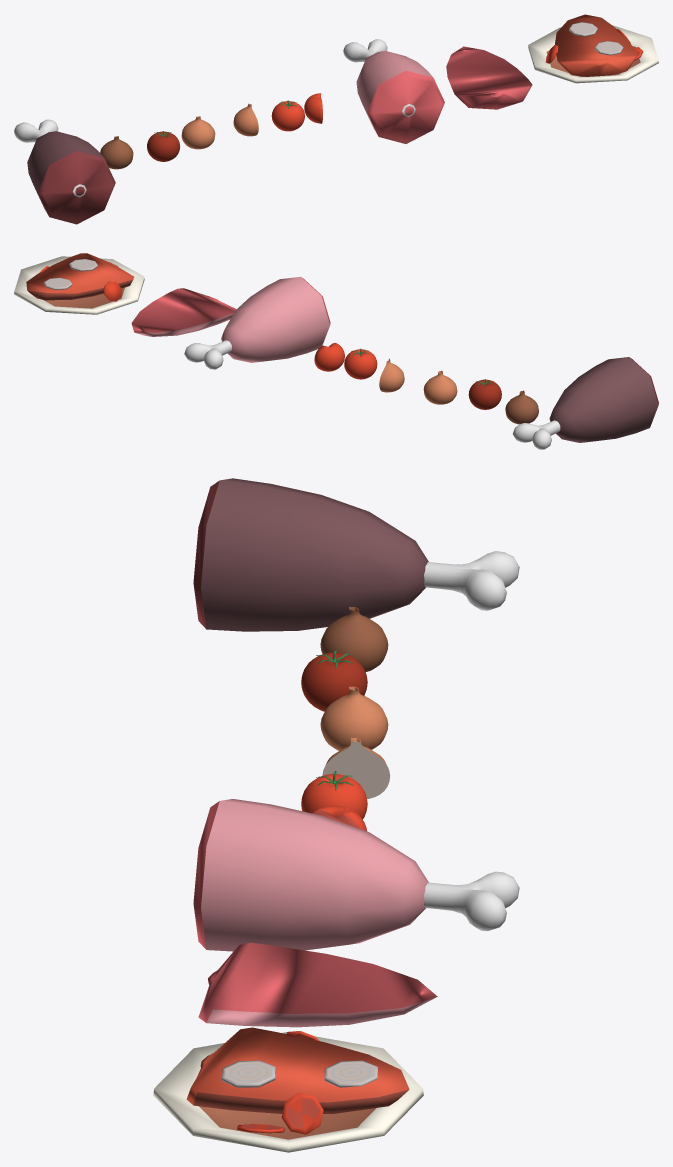
The model's file is Comidas.fbx.
3 renders of one model, top to bottom at view 1: azimuth 30°, elevation 25°; view 2: azimuth 150°, elevation 25°; view 3: azimuth 270°, elevation 25°, orthographic. The views are drawn at different scales.
Parts seen in each view (by area): view 1: Cylinder.001, Cylinder, Circle, Cylinder.002, pSphere3, tomato, tomato.002, pSphere3.001, pSphere1, tomato.001; view 2: Cylinder, Cylinder.001, Circle, Cylinder.002, pSphere3, tomato, tomato.002, pSphere3.001, tomato.001, pSphere1; view 3: Cylinder.001, Cylinder, Circle, Cylinder.002, pSphere3, tomato.002, pSphere3.001, pSphere1, tomato.
Part boxes in pixels (bbox=[...]): Cylinder.001: bbox=[14, 119, 115, 224]; Cylinder: bbox=[343, 39, 444, 143]; Circle: bbox=[528, 14, 658, 83]; Cylinder.002: bbox=[446, 46, 532, 109]; pSphere3: bbox=[181, 116, 215, 149]; tomato: bbox=[271, 100, 304, 131]; tomato.002: bbox=[147, 131, 179, 161]; pSphere3.001: bbox=[100, 136, 133, 169]; pSphere1: bbox=[233, 103, 258, 136]; tomato.001: bbox=[304, 93, 322, 123]; Cylinder: bbox=[184, 276, 330, 369]; Cylinder.001: bbox=[512, 357, 658, 449]; Circle: bbox=[14, 253, 144, 314]; Cylinder.002: bbox=[131, 288, 236, 336]; pSphere3: bbox=[423, 370, 457, 404]; tomato: bbox=[344, 348, 377, 379]; tomato.002: bbox=[468, 379, 501, 409]; pSphere3.001: bbox=[505, 390, 538, 424]; tomato.001: bbox=[314, 343, 344, 371]; pSphere1: bbox=[379, 358, 404, 392]; Cylinder.001: bbox=[193, 478, 519, 631]; Cylinder: bbox=[193, 799, 519, 951]; Circle: bbox=[153, 1027, 423, 1152]; Cylinder.002: bbox=[198, 942, 437, 1027]; pSphere3: bbox=[320, 686, 388, 750]; tomato.002: bbox=[301, 649, 367, 711]; pSphere3.001: bbox=[320, 606, 388, 671]; pSphere1: bbox=[322, 737, 390, 798]; tomato: bbox=[301, 771, 367, 819].
Size of the model in its own units: 2025 by 228 by 514.
